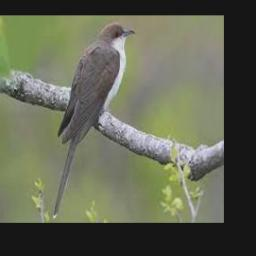Cuckoo: (52, 23, 134, 218)
